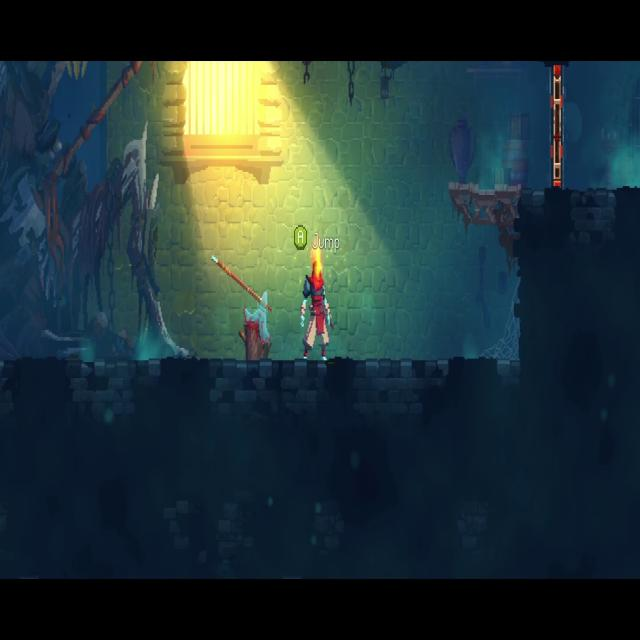agents: (305, 258, 335, 362)
door_regular: (550, 62, 564, 190)
wood_floor: (447, 171, 521, 233)
